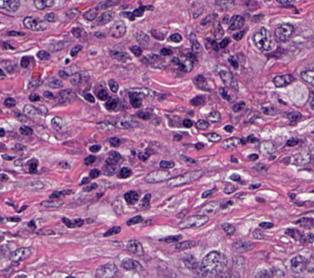nucleus: (167, 170, 202, 186), (253, 28, 274, 51), (179, 214, 208, 228), (219, 70, 236, 89), (23, 16, 46, 30), (145, 170, 170, 182), (200, 201, 220, 215), (110, 20, 125, 37), (193, 75, 210, 90), (174, 57, 192, 71), (57, 89, 75, 103), (233, 239, 252, 252), (105, 151, 121, 166), (96, 11, 113, 25), (228, 15, 243, 30), (116, 118, 137, 128), (24, 158, 38, 173), (70, 72, 87, 84), (175, 240, 195, 250), (1, 0, 19, 11), (222, 137, 240, 148), (50, 190, 72, 199), (124, 190, 138, 204), (83, 7, 98, 20), (190, 33, 200, 52), (111, 51, 130, 61), (129, 92, 141, 107), (51, 116, 64, 129), (41, 199, 62, 207), (215, 1, 233, 10), (23, 105, 39, 115), (104, 226, 120, 236), (205, 38, 218, 50), (2, 60, 14, 73), (260, 142, 274, 153), (49, 41, 66, 50), (190, 95, 205, 105), (98, 1, 119, 8), (105, 98, 117, 110), (103, 164, 116, 175), (118, 167, 131, 178), (201, 14, 215, 24), (151, 29, 165, 39), (48, 78, 62, 88), (161, 235, 181, 242), (214, 23, 223, 38), (127, 215, 142, 224), (219, 87, 230, 99), (222, 223, 234, 234), (132, 6, 145, 16), (108, 79, 118, 92), (62, 217, 75, 227), (98, 122, 114, 130), (141, 193, 150, 207), (70, 45, 81, 56), (130, 45, 141, 56), (97, 89, 108, 100), (72, 27, 84, 37), (228, 56, 238, 68), (208, 111, 220, 121), (196, 119, 208, 129), (159, 160, 174, 168), (19, 126, 32, 135), (45, 12, 56, 22), (4, 97, 15, 107), (84, 155, 95, 165), (34, 0, 46, 9), (169, 33, 181, 42), (37, 50, 49, 59), (29, 79, 41, 88), (232, 102, 244, 111), (138, 110, 150, 119), (224, 184, 236, 193), (207, 133, 220, 141), (109, 137, 120, 146), (89, 169, 100, 178), (262, 107, 276, 114), (160, 47, 172, 55), (84, 183, 96, 191), (219, 38, 229, 47), (20, 57, 29, 67), (84, 93, 94, 102), (233, 31, 244, 39), (138, 152, 149, 160), (37, 229, 54, 234), (122, 12, 134, 19), (58, 70, 68, 78), (182, 119, 192, 127), (259, 222, 272, 228), (89, 145, 100, 152), (202, 190, 213, 197), (1, 42, 13, 48), (43, 91, 53, 98), (29, 94, 39, 101), (247, 135, 257, 142), (230, 174, 240, 181), (7, 31, 23, 35), (74, 219, 83, 226), (2, 154, 13, 159), (28, 221, 35, 228), (224, 125, 232, 131), (1, 173, 7, 181), (248, 154, 257, 159), (250, 183, 259, 188), (196, 143, 202, 149), (0, 69, 4, 77), (0, 128, 4, 136), (9, 218, 19, 220)
